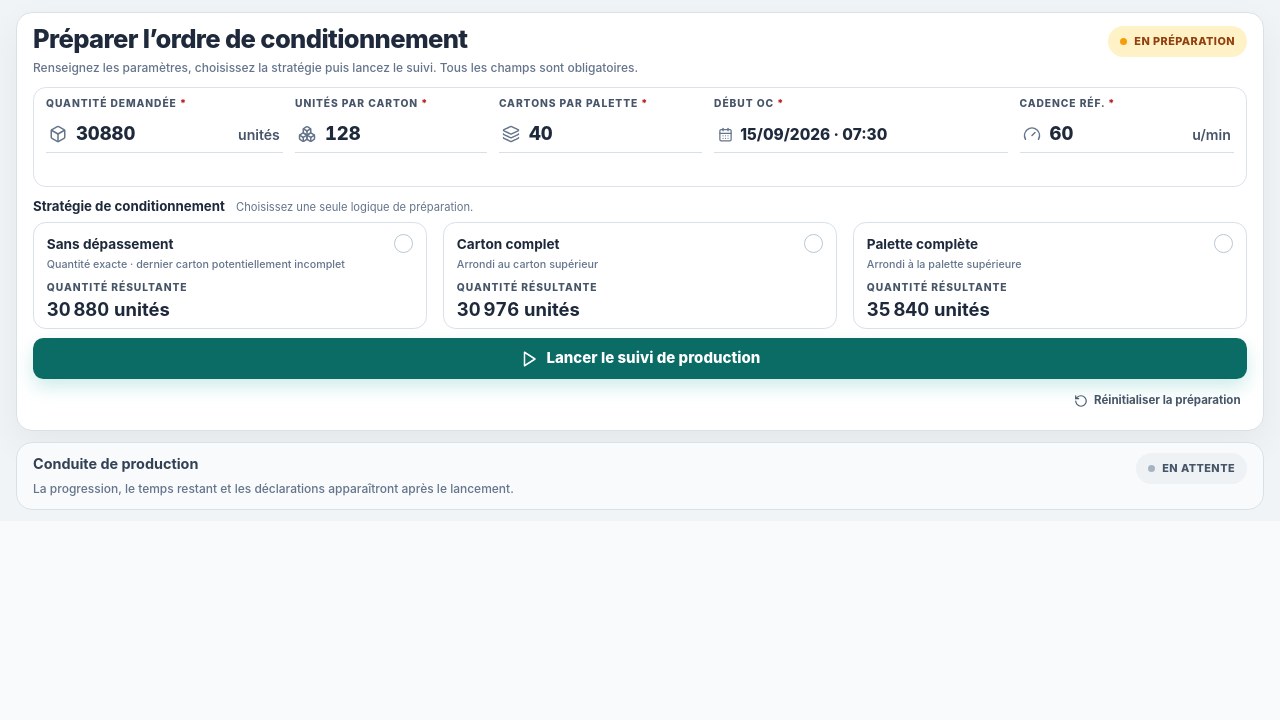
Test: Packing preparation persistence hardening › keeps the active run until replacing preparation is persisted or explicitly accepted degraded
Step 1. Click the radio button labelled "Carton complet" → (508,244), box 443,222 -> 837,329
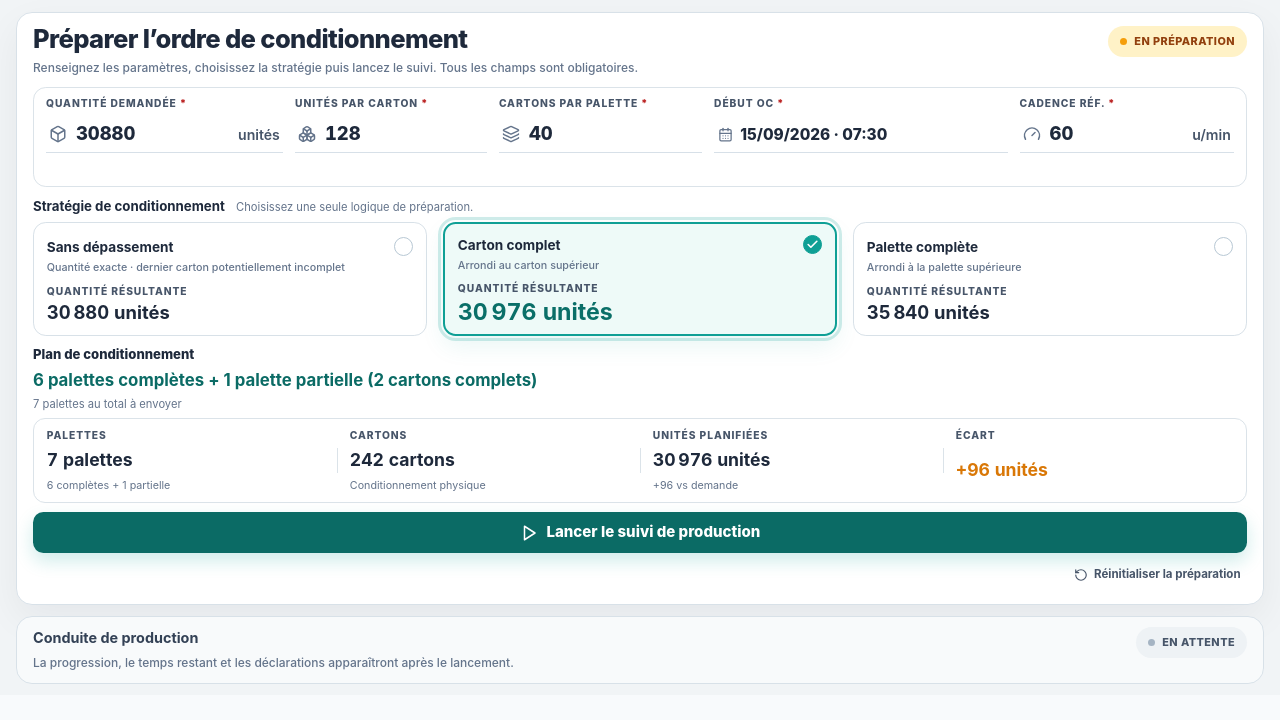
Step 2. Click the button "Lancer le suivi de production" → (640,533), box 33,512 -> 1247,553
(page scrolled)
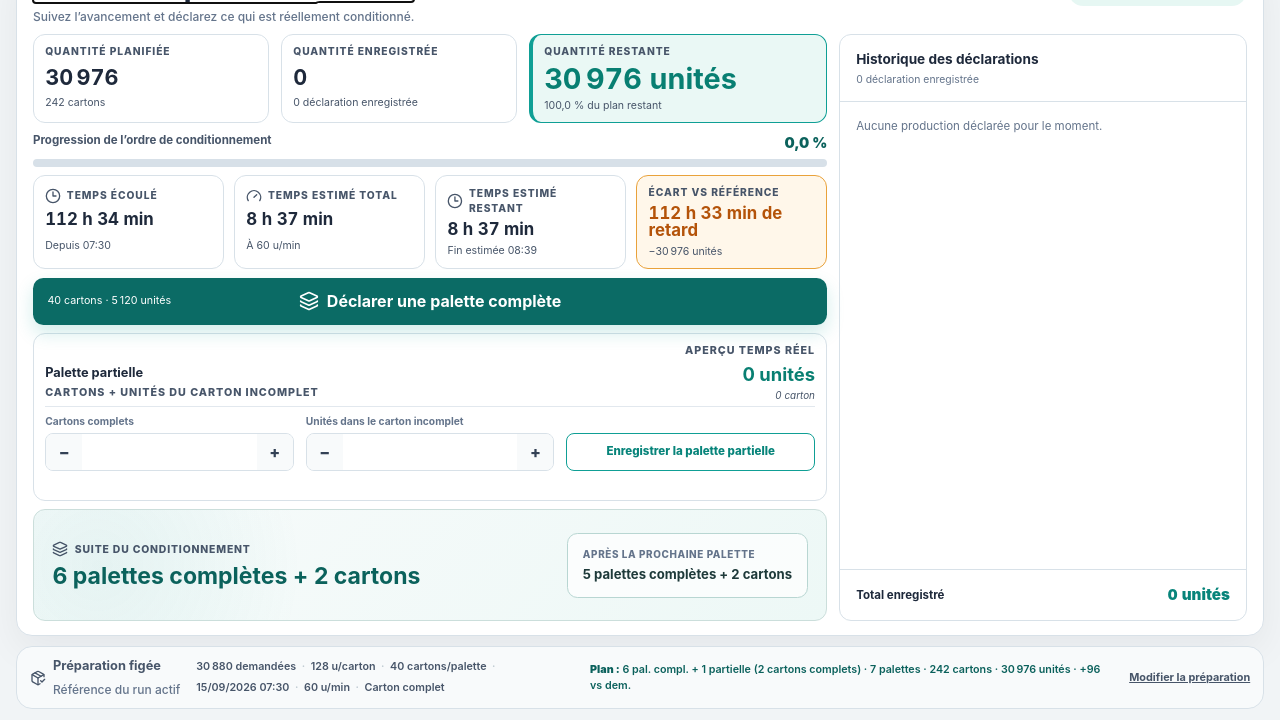
Step 3. Click the button "Modifier la préparation" → (1190,678), box 1129,669 -> 1250,686
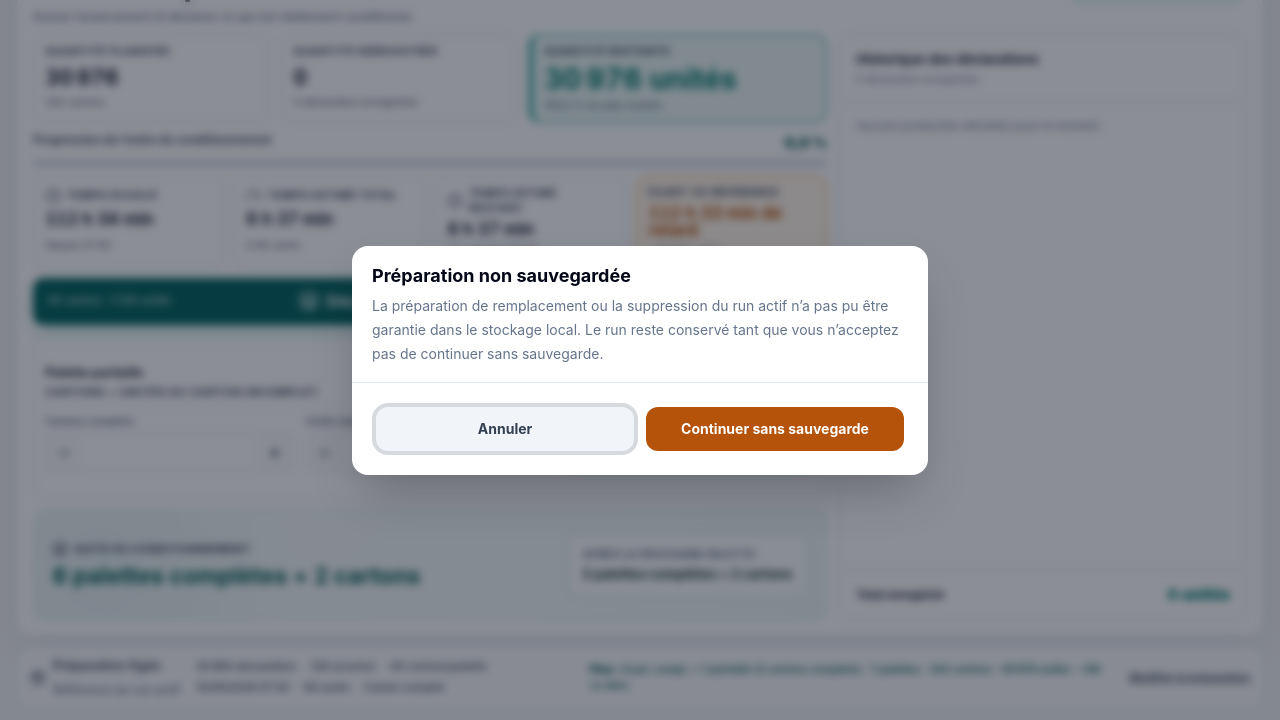
Now the dialog "Préparation non sauvegardée" is shown, box 352,246 -> 928,474
Step 4. Click the button "Annuler" → (505,428), box 376,406 -> 634,450
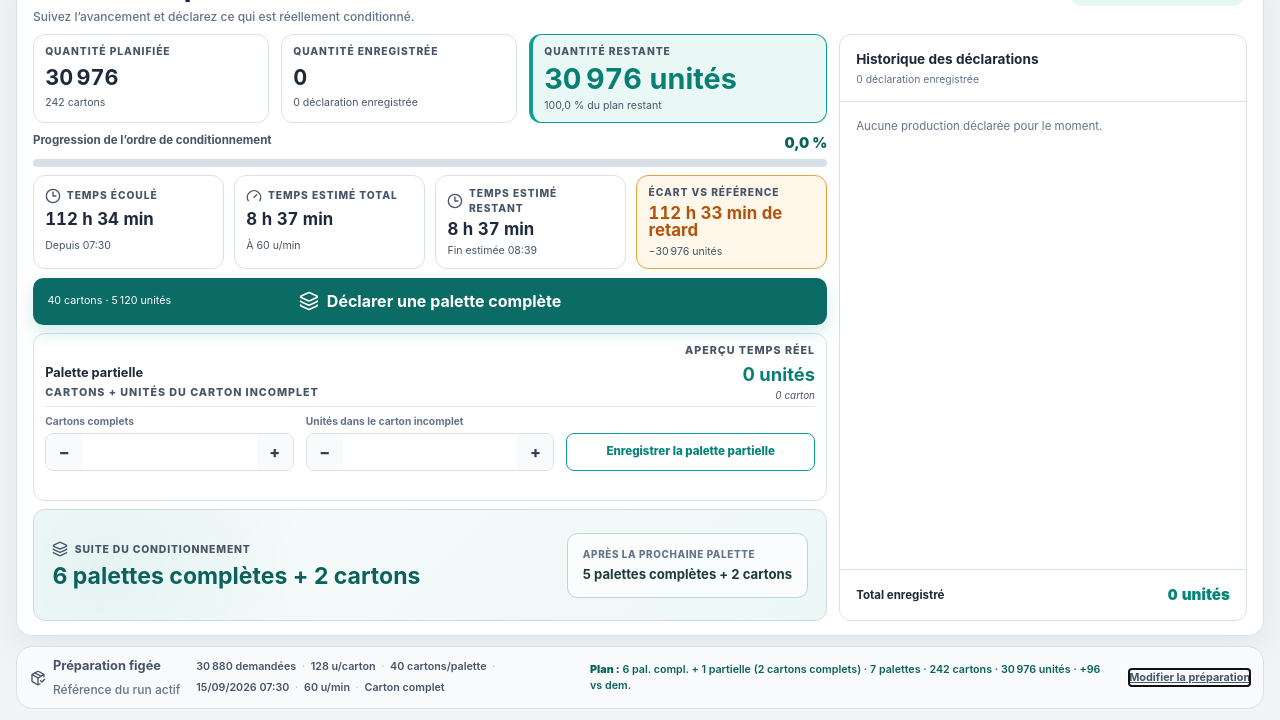
Step 5. Click the button "Modifier la préparation" → (1190,678), box 1129,669 -> 1250,686
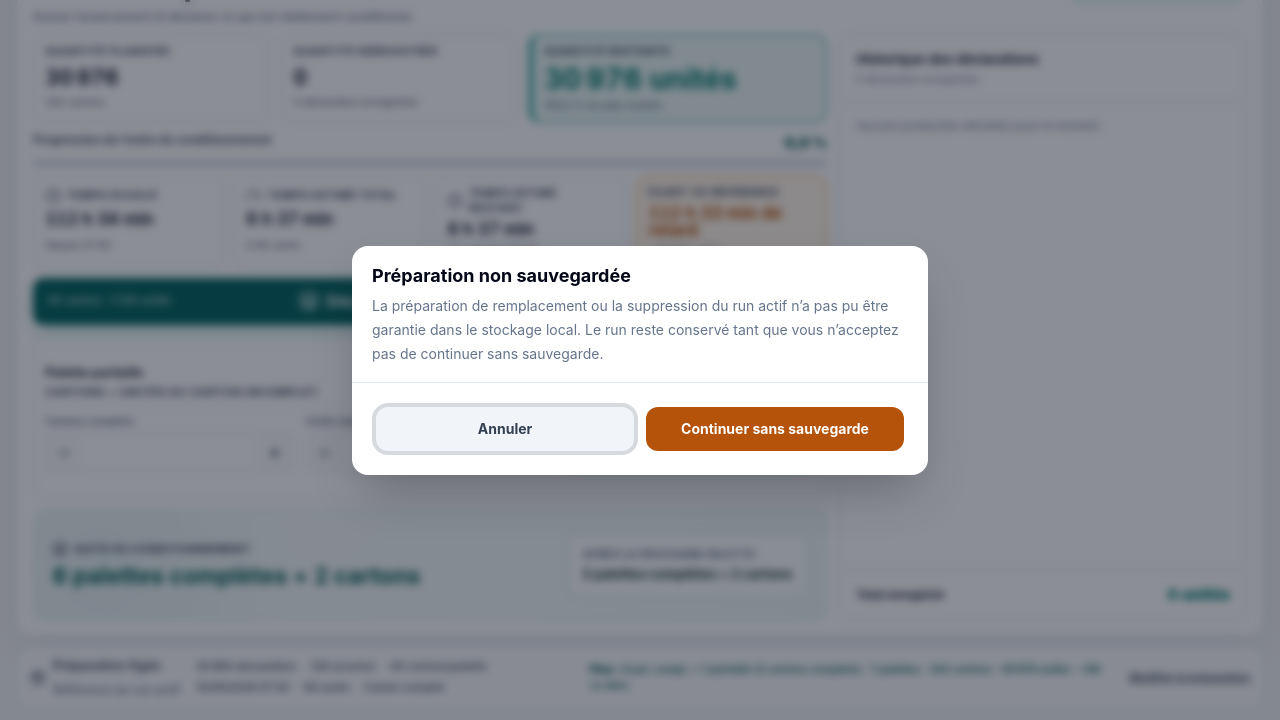
Step 6. Click the button "Continuer sans sauvegarde" → (775,428), box 646,406 -> 904,450
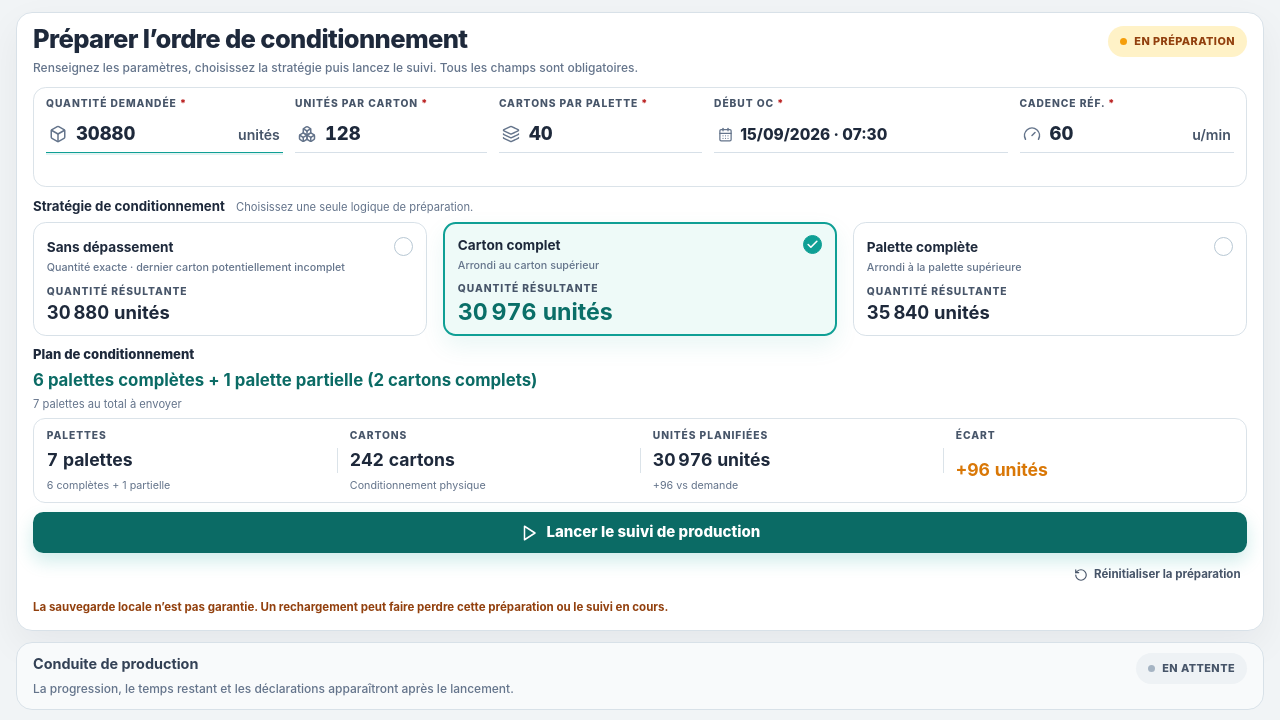
Now the heading "Préparer l’ordre de conditionnement" is shown, box 33,23 -> 468,54
